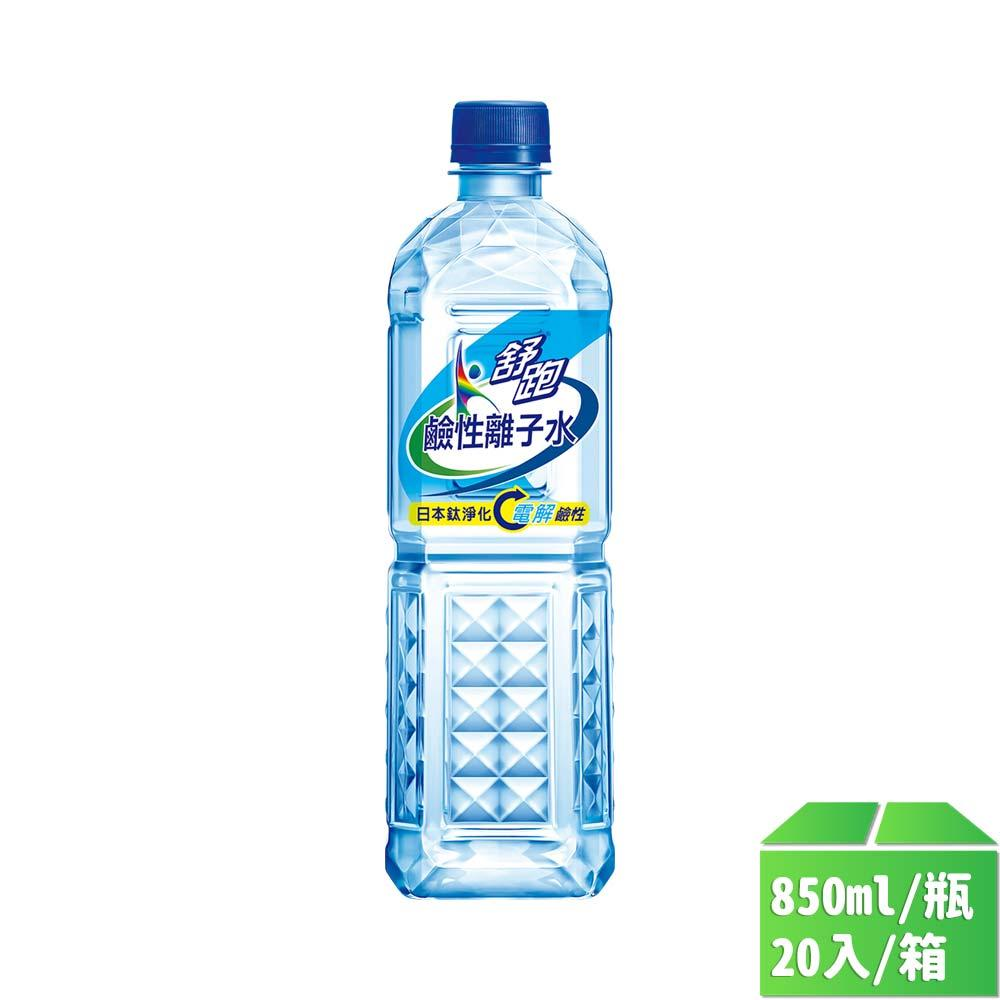bottle: (364, 81, 628, 911)
